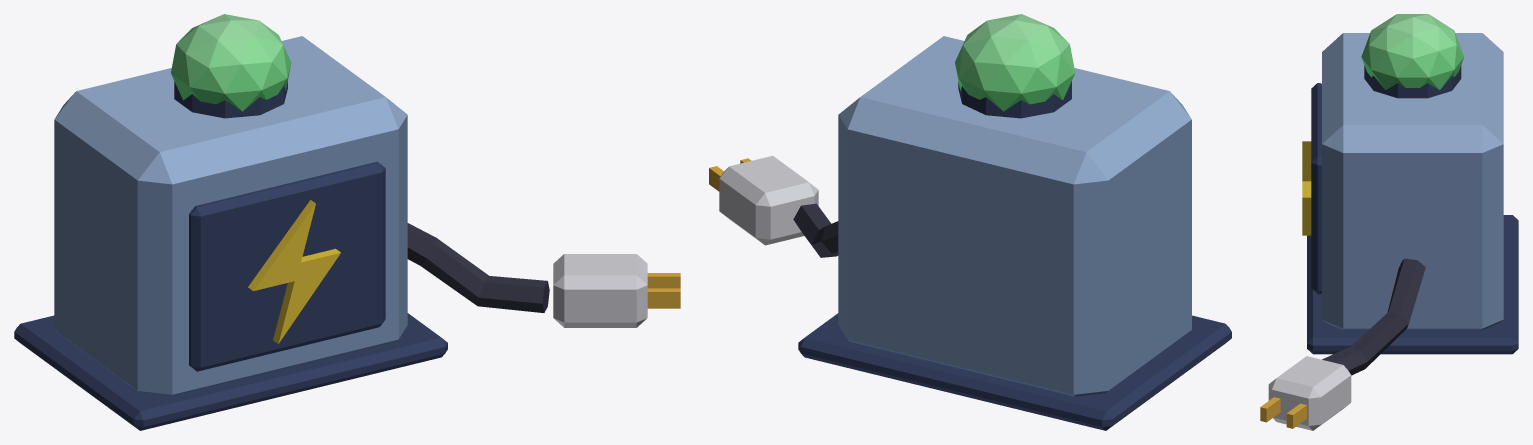
File: habitat_prop_robo.fbx
3 renders of one model, left to right at view 1: azimuth 30°, elevation 25°; view 2: azimuth 150°, elevation 25°; view 3: azimuth 270°, elevation 25°, orthographic. The views are drawn at different scales.
Visible parts, largest first — view 1: habitat_prop_robo; view 2: habitat_prop_robo; view 3: habitat_prop_robo.
Part boxes in pixels (x1=…): habitat_prop_robo: x1=14, y1=14, x2=680, y2=430; habitat_prop_robo: x1=709, y1=14, x2=1231, y2=430; habitat_prop_robo: x1=1260, y1=14, x2=1518, y2=430.
Bounding box in the file's own units: 1.7 × 1 × 0.8543.
